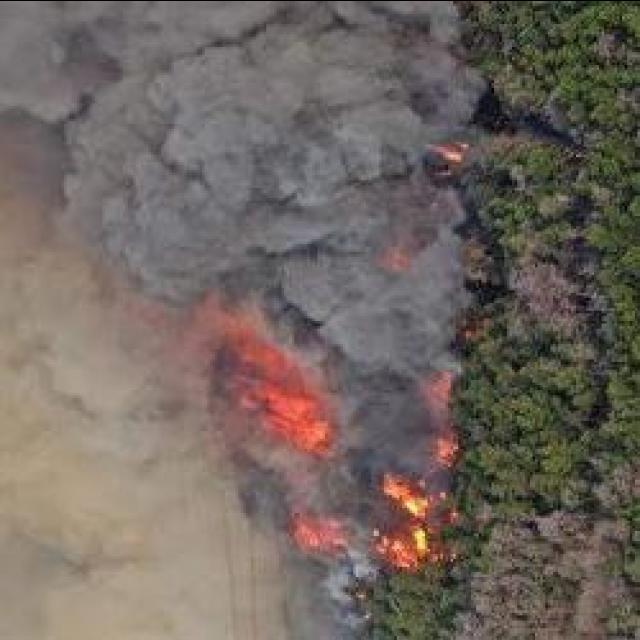fire: (272, 390, 320, 440), (409, 528, 428, 550), (402, 496, 422, 512)
smoke: (1, 0, 120, 127), (68, 112, 174, 250), (22, 333, 146, 450), (256, 0, 450, 74), (148, 0, 276, 105), (208, 146, 322, 262), (296, 100, 422, 194), (11, 514, 127, 592), (252, 256, 354, 336), (336, 305, 444, 377), (277, 452, 357, 496), (362, 405, 424, 460), (326, 558, 354, 596), (352, 552, 373, 575)
